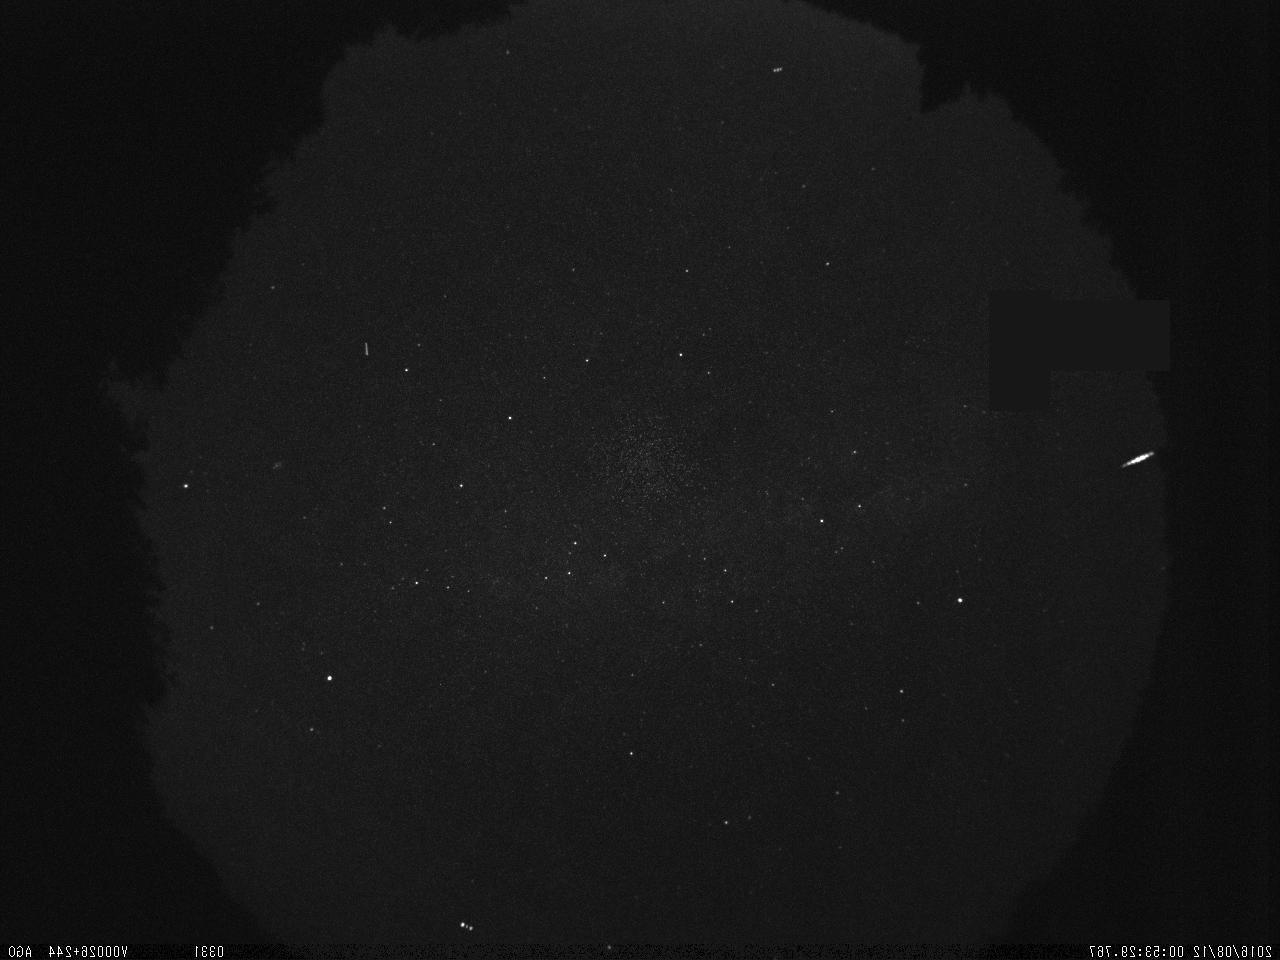meteor: (1114, 444, 1160, 485)
